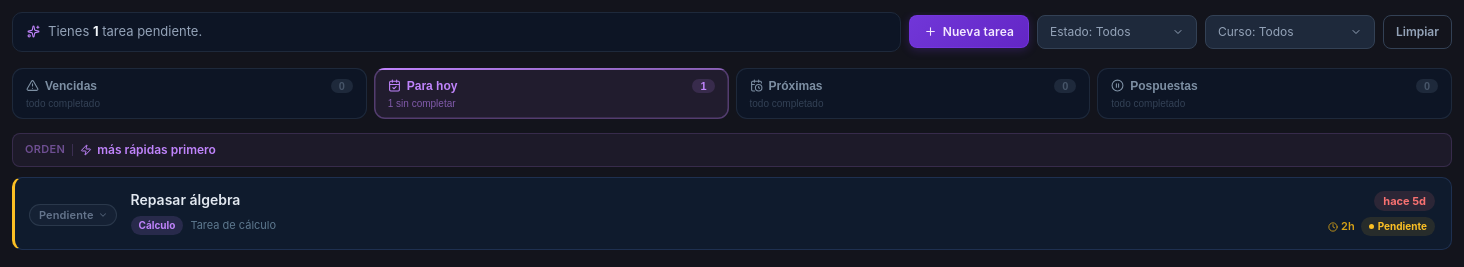
TodayKanban — filtros › limpia los filtros
This screenshot has width=1464, height=267.
Click the button with test id "today-status-filter-btn" at (1117, 32), box [1037, 15, 1197, 49]
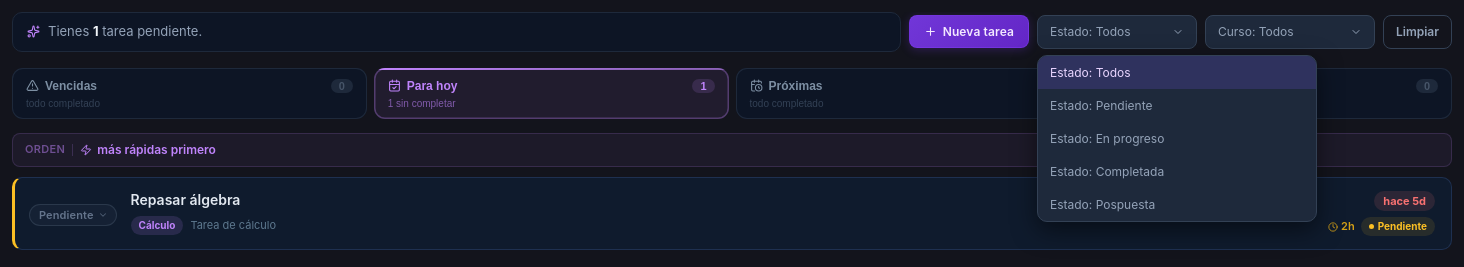
Click the button with test id "today-status-filter-option-completed" at (1073, 171), box [1038, 155, 1316, 188]
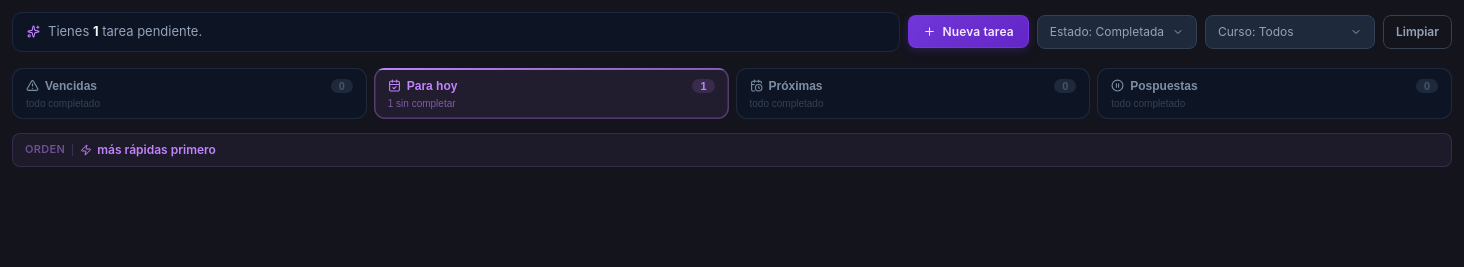
Click the button with test id "today-clear-filters-btn" at (1418, 32), box [1383, 15, 1452, 49]
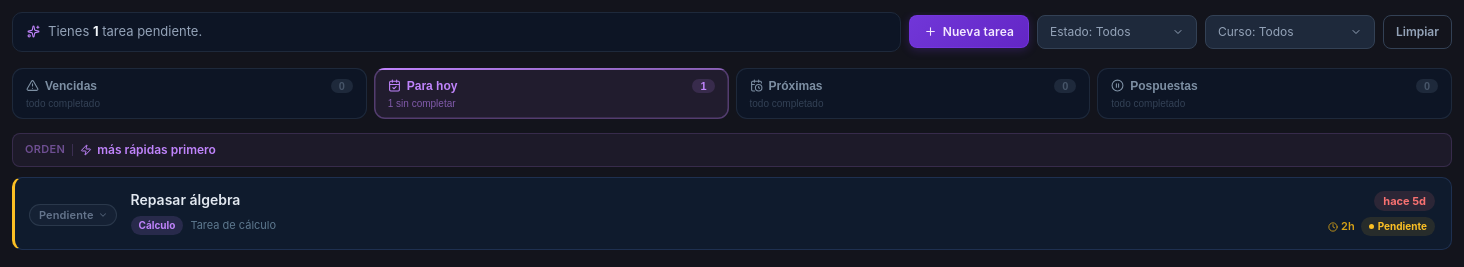
Check: the button with test id "today-status-filter-btn" shows "Todos", box [1037, 15, 1197, 49]
